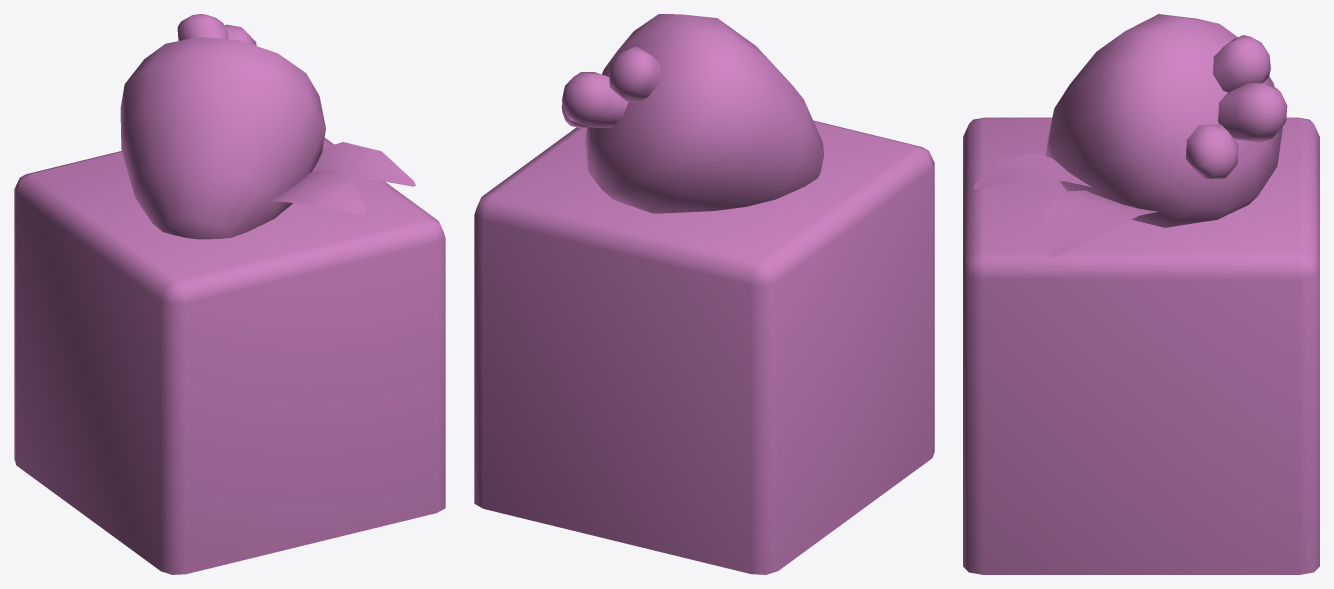
The model's file is pizza_cake.glb.
3 views of the same model, side by side, from view 1: azimuth 30°, elevation 25°; view 2: azimuth 150°, elevation 25°; view 3: azimuth 270°, elevation 25° (orthographic). The views are drawn at different scales.
Parts seen in each view (by area): view 1: cake; view 2: cake; view 3: cake.
Part boxes in pixels (x1=…): cake: x1=14, y1=14, x2=445, y2=574; cake: x1=474, y1=14, x2=934, y2=574; cake: x1=963, y1=14, x2=1319, y2=574.
Size of the model in its own units: 0.9161 by 1.32 by 0.9.
